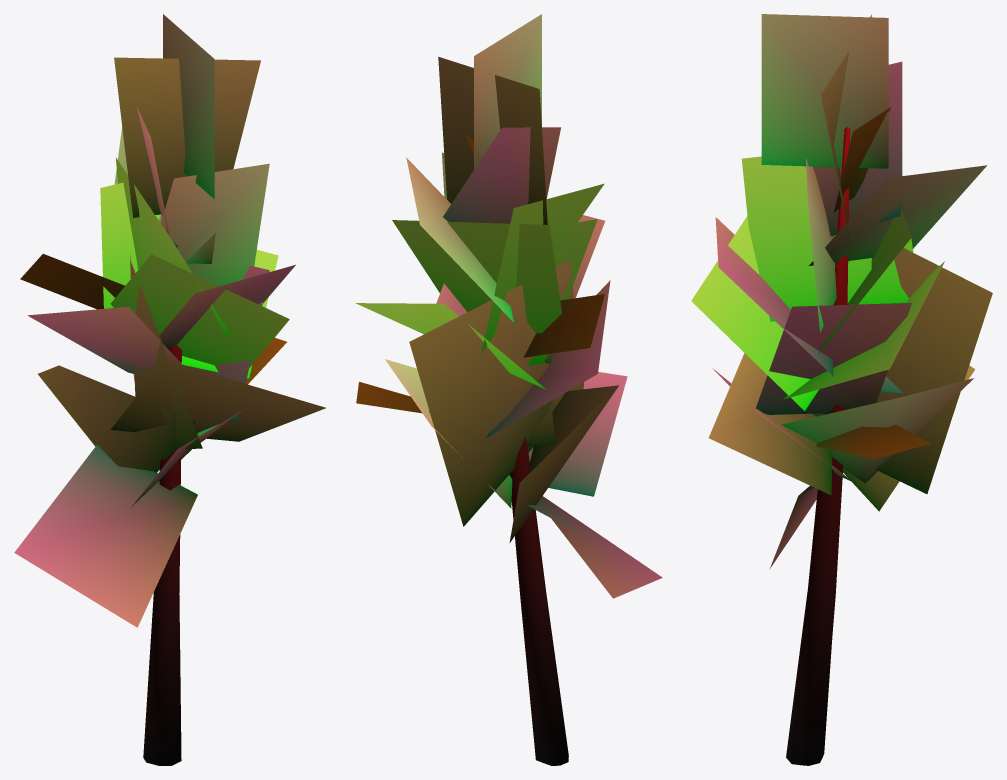
The model's file is swamp_birch_c.fbx.
3 renders of one model, left to right at view 1: azimuth 30°, elevation 25°; view 2: azimuth 150°, elevation 25°; view 3: azimuth 270°, elevation 25°, orthographic. The views are drawn at different scales.
Parts seen in each view (by area): view 1: birchleavesc256, birchtreec256; view 2: birchleavesc256, birchtreec256; view 3: birchleavesc256, birchtreec256.
Boxes of the visible parts, x1=… form: birchleavesc256: x1=14, y1=14, x2=325, y2=627; birchtreec256: x1=143, y1=345, x2=181, y2=765; birchleavesc256: x1=355, y1=14, x2=662, y2=598; birchtreec256: x1=509, y1=437, x2=568, y2=765; birchleavesc256: x1=691, y1=14, x2=992, y2=568; birchtreec256: x1=786, y1=127, x2=850, y2=765.
Size of what is drawn, in the model's own units: 4.26 by 10.08 by 3.63.
